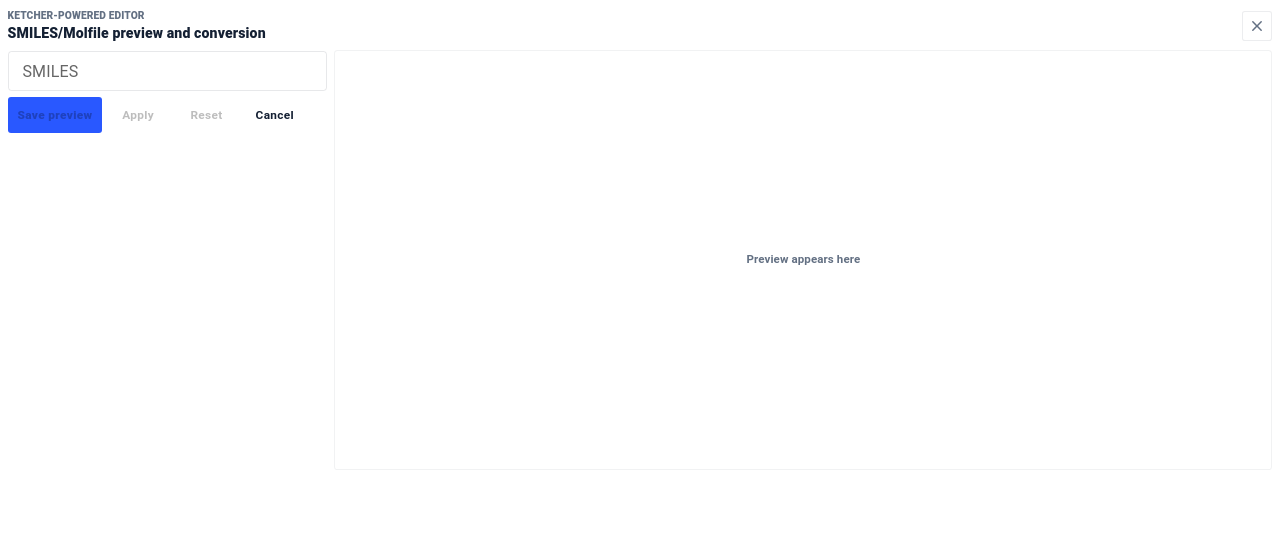
Test: KetcherEditorPanel › shows warning alert when input is invalid
Step 1. Type "invalid-smiles" into the field labelled "SMILES" → [168, 71], box [8, 51, 327, 91]
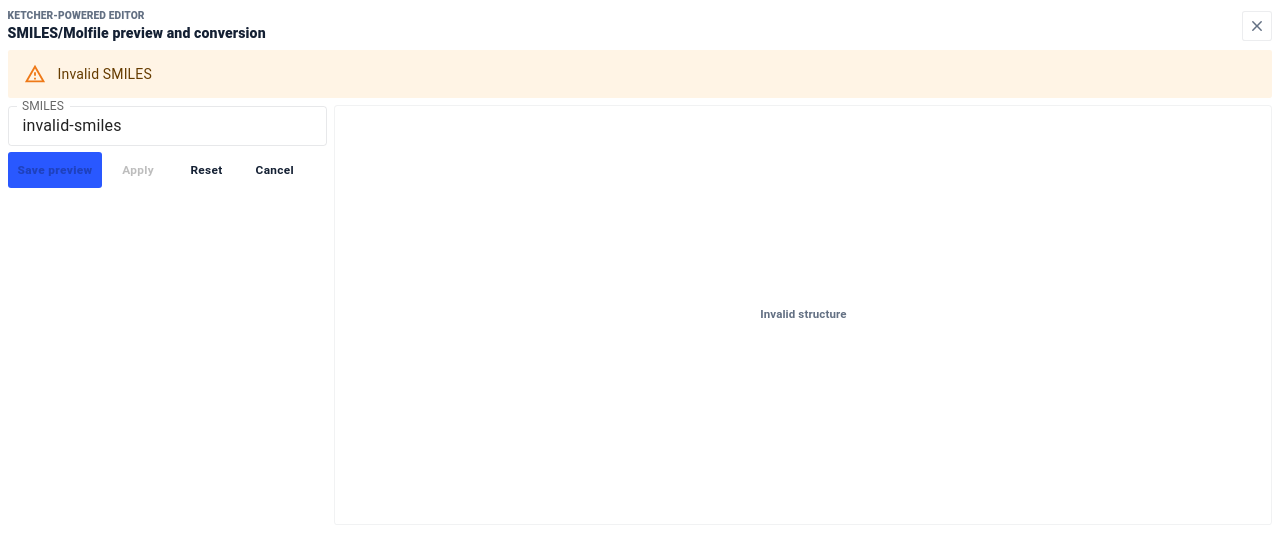
Now the text "Invalid SMILES" is shown, box [58, 66, 152, 82]
